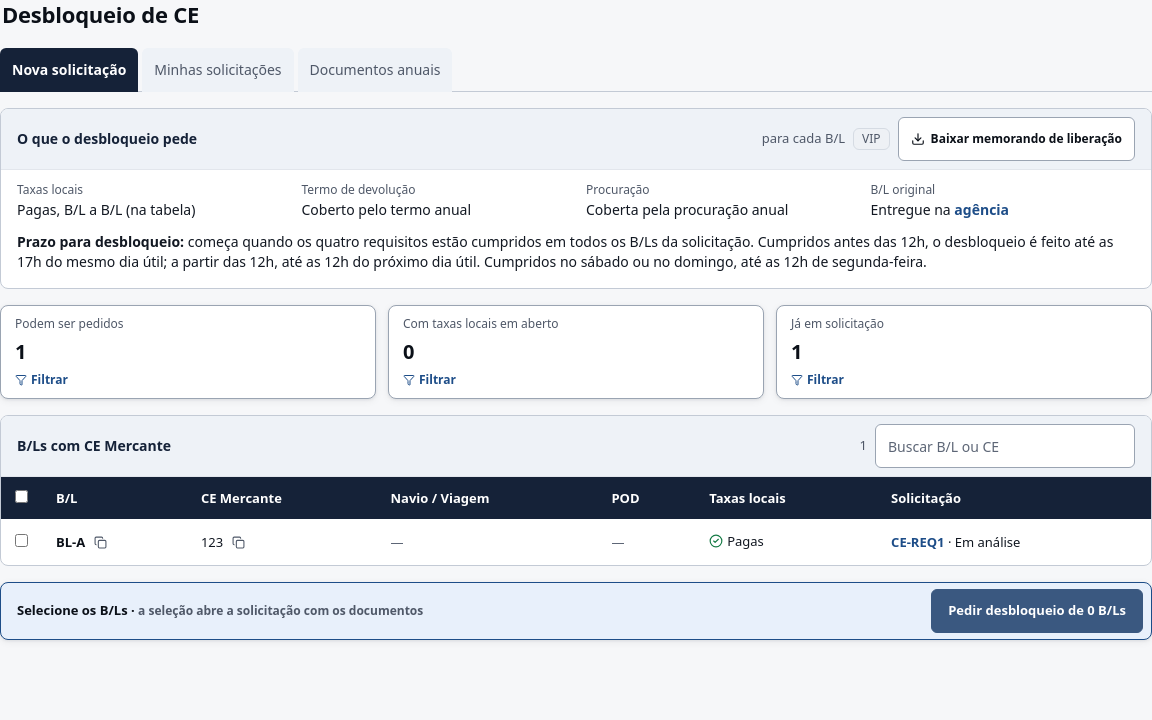
Test: Cliente VIP: a confirmação de mudança não fala de termo e procuração
Click the checkbox named "Selecionar B/L BL-A" at (22, 540), box left=15, top=534, right=28, bottom=547
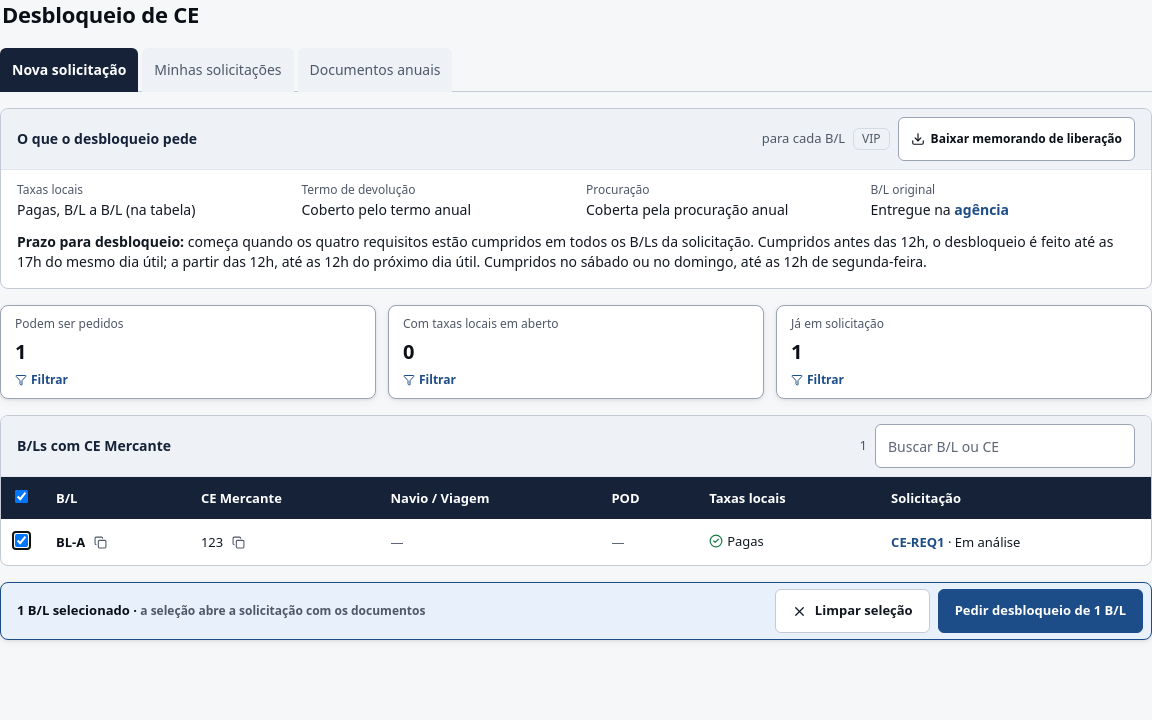
Click the button "Pedir desbloqueio de 1 B/L" at (1040, 611), box left=938, top=589, right=1143, bottom=633
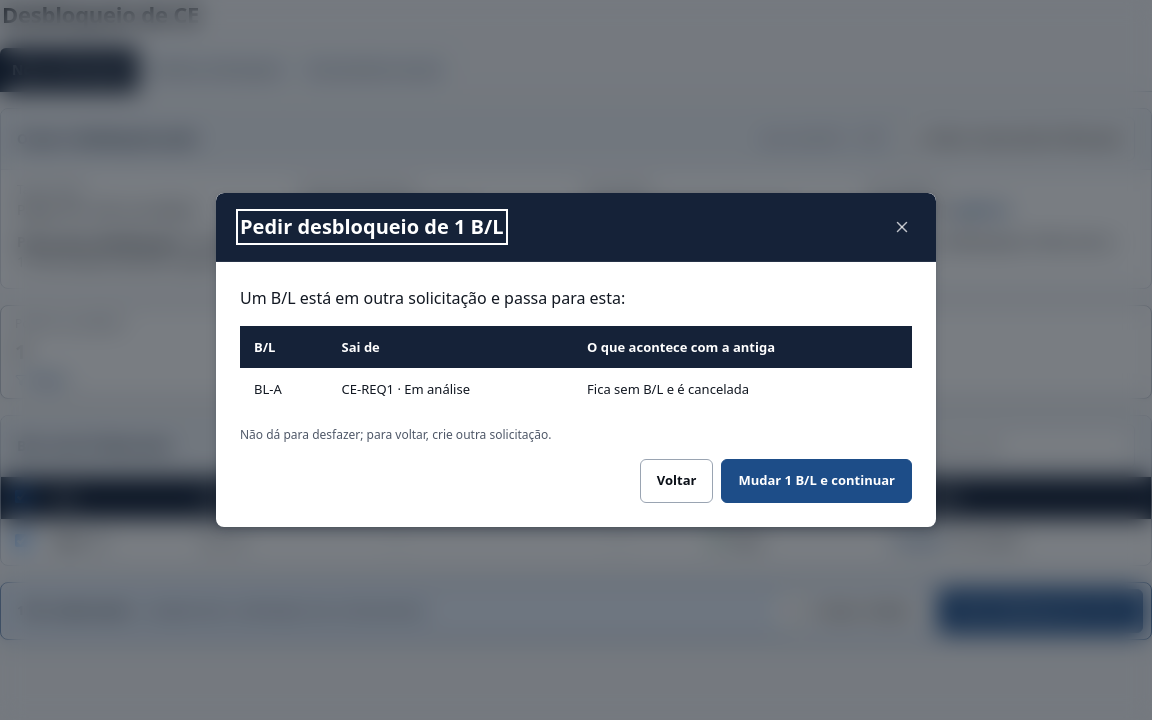
Expected: the dialog "Pedir desbloqueio de 1 B/L" shows "Um B/L está em outra solicitação", left=240, top=287, right=625, bottom=309
Expected: the button "Mudar 1 B/L e continuar" is shown, left=721, top=459, right=912, bottom=503
